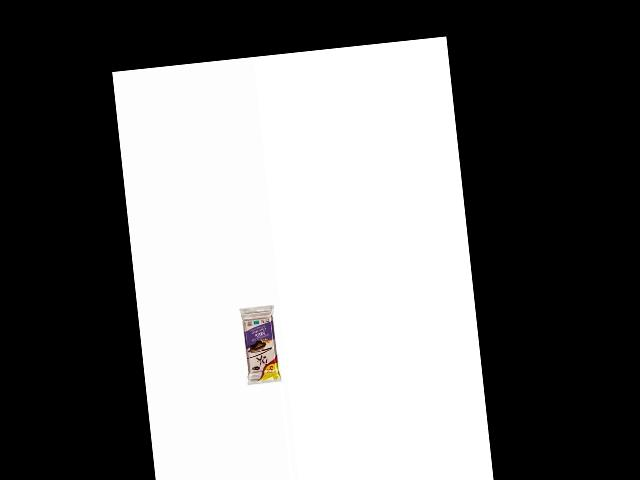chocolate: (236, 304, 283, 387)
